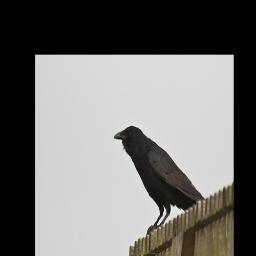Crow: (114, 124, 206, 236)
